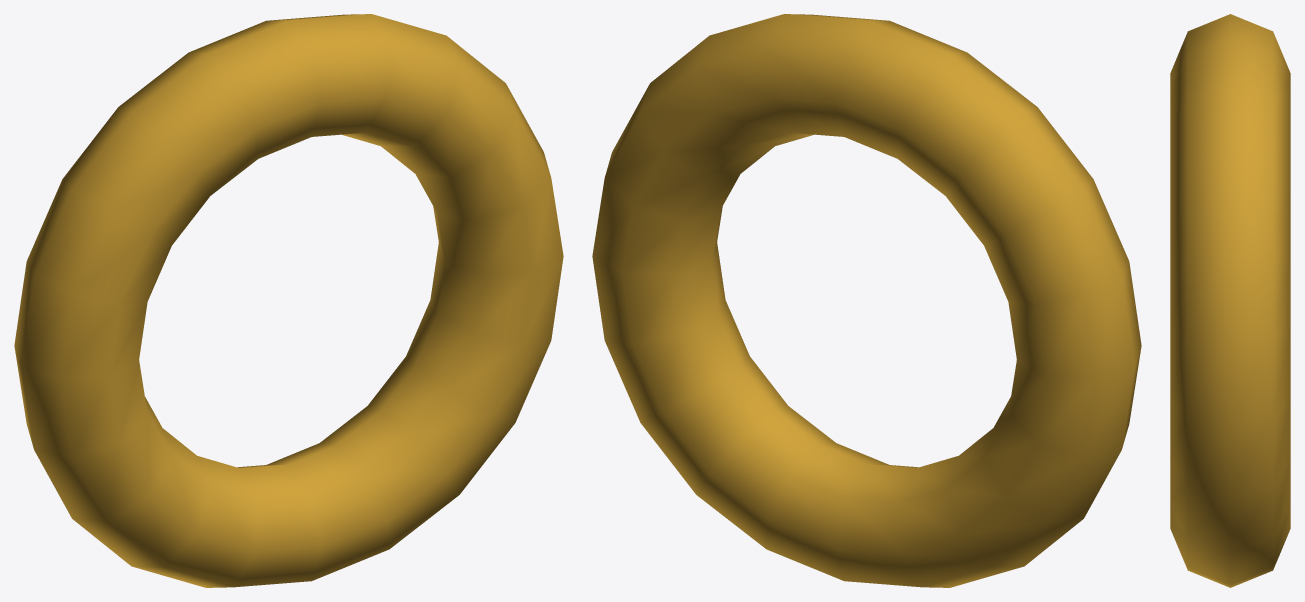
Rendered from Wedding_ring_leak.obj.
3 renders of one model, left to right at view 1: azimuth 30°, elevation 25°; view 2: azimuth 150°, elevation 25°; view 3: azimuth 270°, elevation 25°, orthographic. The views are drawn at different scales.
Visible parts, largest first — view 1: Wedding_ring_leak; view 2: Wedding_ring_leak; view 3: Wedding_ring_leak.
Part boxes in pixels (x1,y1,x2,y2): Wedding_ring_leak: (14,14,563,587); Wedding_ring_leak: (592,14,1141,587); Wedding_ring_leak: (1170,14,1290,587).
Size of the model in its own units: 0.024 by 0.024 by 0.005.
